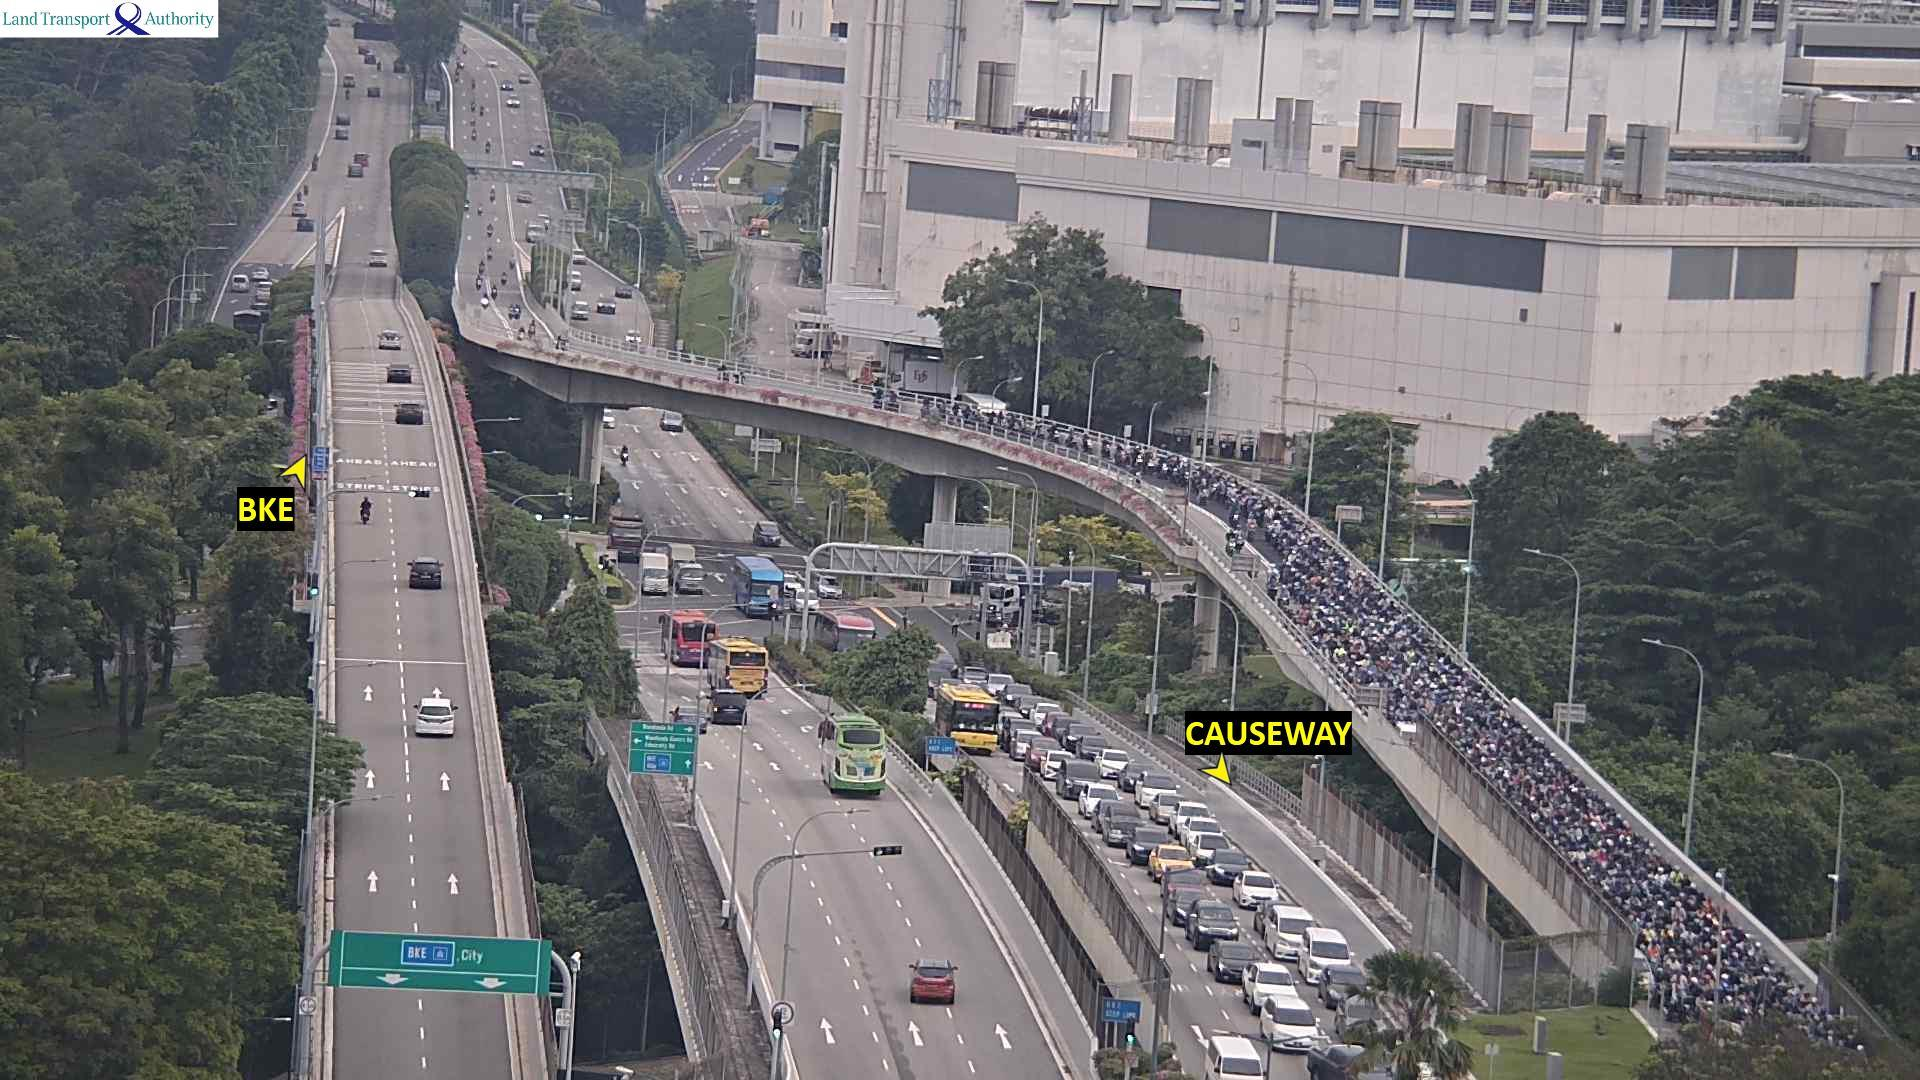vehicle-causeway-johor: (938, 686, 1001, 752), (1258, 909, 1321, 955), (736, 556, 783, 616), (1050, 761, 1108, 802), (1215, 943, 1271, 981), (1092, 811, 1149, 848), (1244, 967, 1296, 1005), (1304, 932, 1349, 973), (822, 613, 873, 649), (1253, 1000, 1312, 1029), (1129, 829, 1171, 866), (1187, 923, 1242, 951), (1077, 785, 1124, 816), (1171, 889, 1209, 924), (1237, 872, 1276, 906), (1159, 803, 1211, 827), (1146, 847, 1193, 870), (1187, 828, 1224, 856), (1138, 789, 1183, 811), (1212, 852, 1246, 881), (1027, 741, 1062, 766), (1092, 756, 1122, 781), (1067, 725, 1098, 749), (1046, 752, 1075, 777), (1011, 732, 1046, 753), (1125, 762, 1151, 789), (1006, 720, 1033, 744), (1029, 704, 1064, 721), (1080, 738, 1108, 760), (756, 520, 778, 543), (1004, 684, 1033, 700), (1019, 698, 1044, 709), (1226, 527, 1234, 551), (1236, 526, 1244, 547), (870, 388, 881, 404), (555, 334, 564, 351), (512, 305, 521, 320), (716, 365, 725, 380), (531, 319, 538, 336), (481, 295, 489, 307), (517, 328, 524, 340), (492, 285, 497, 298), (476, 274, 481, 287), (502, 273, 508, 285)
vehicle-causeway-singapore: (823, 746, 893, 796), (658, 615, 727, 659), (1197, 1034, 1263, 1080), (907, 961, 967, 1000), (704, 645, 766, 676), (712, 658, 777, 688), (824, 773, 890, 798), (708, 692, 754, 721), (407, 563, 452, 592), (709, 700, 746, 725), (411, 720, 463, 737), (673, 704, 704, 732), (414, 700, 454, 720), (400, 405, 431, 423), (398, 409, 423, 430), (381, 332, 402, 353), (392, 368, 410, 385), (364, 252, 382, 268), (360, 500, 369, 525), (414, 488, 431, 498)
